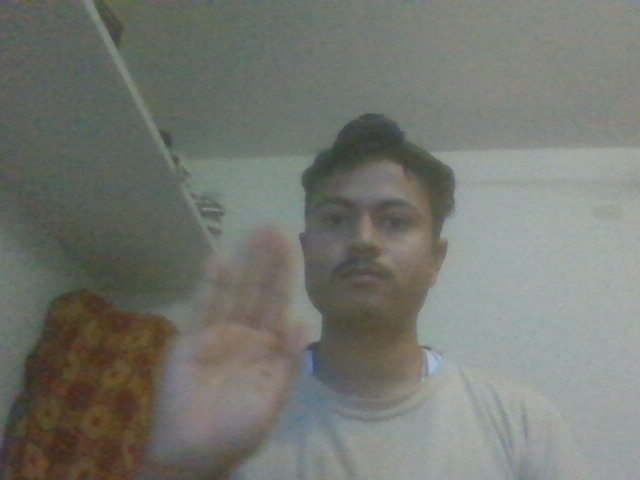Hello: (141, 217, 318, 473)
